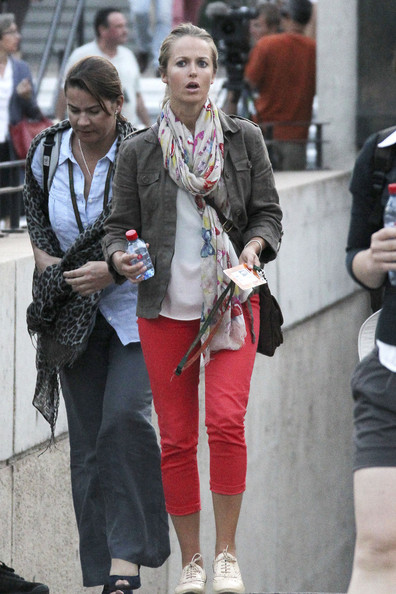Person: (129, 21, 282, 594), (32, 56, 155, 594)
